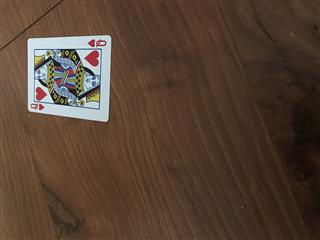QueenOfHearts: (26, 34, 112, 122)
